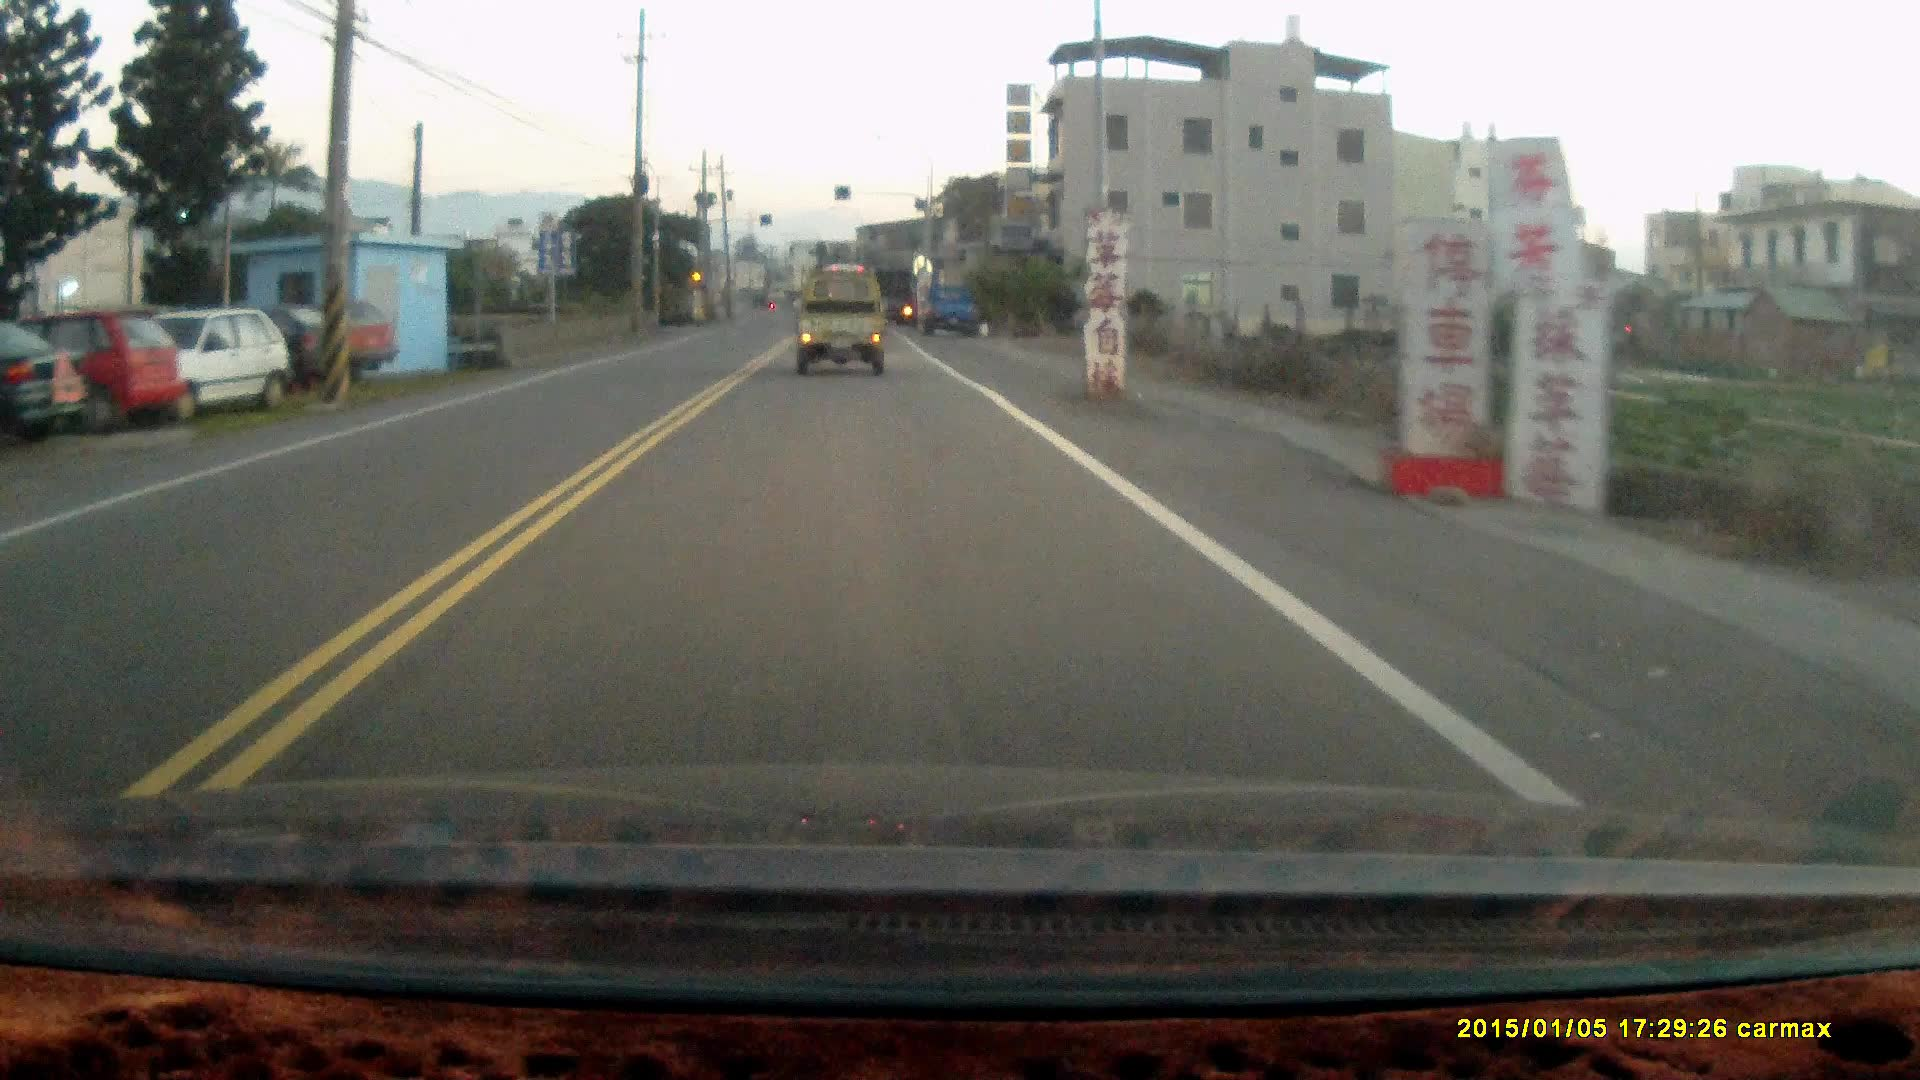vehicle: (1, 316, 185, 430), (104, 309, 295, 410), (243, 301, 405, 386), (795, 268, 891, 378), (913, 281, 982, 339)
